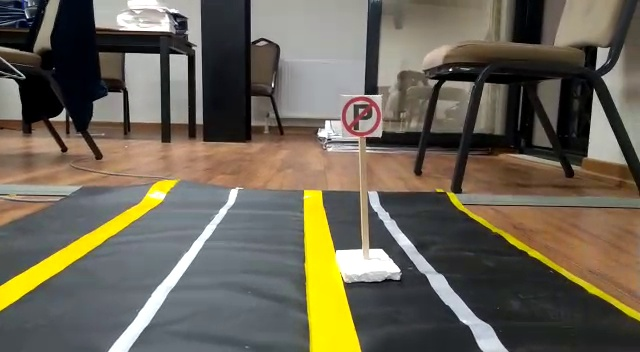park_yapilmaz: (340, 95, 384, 139)
